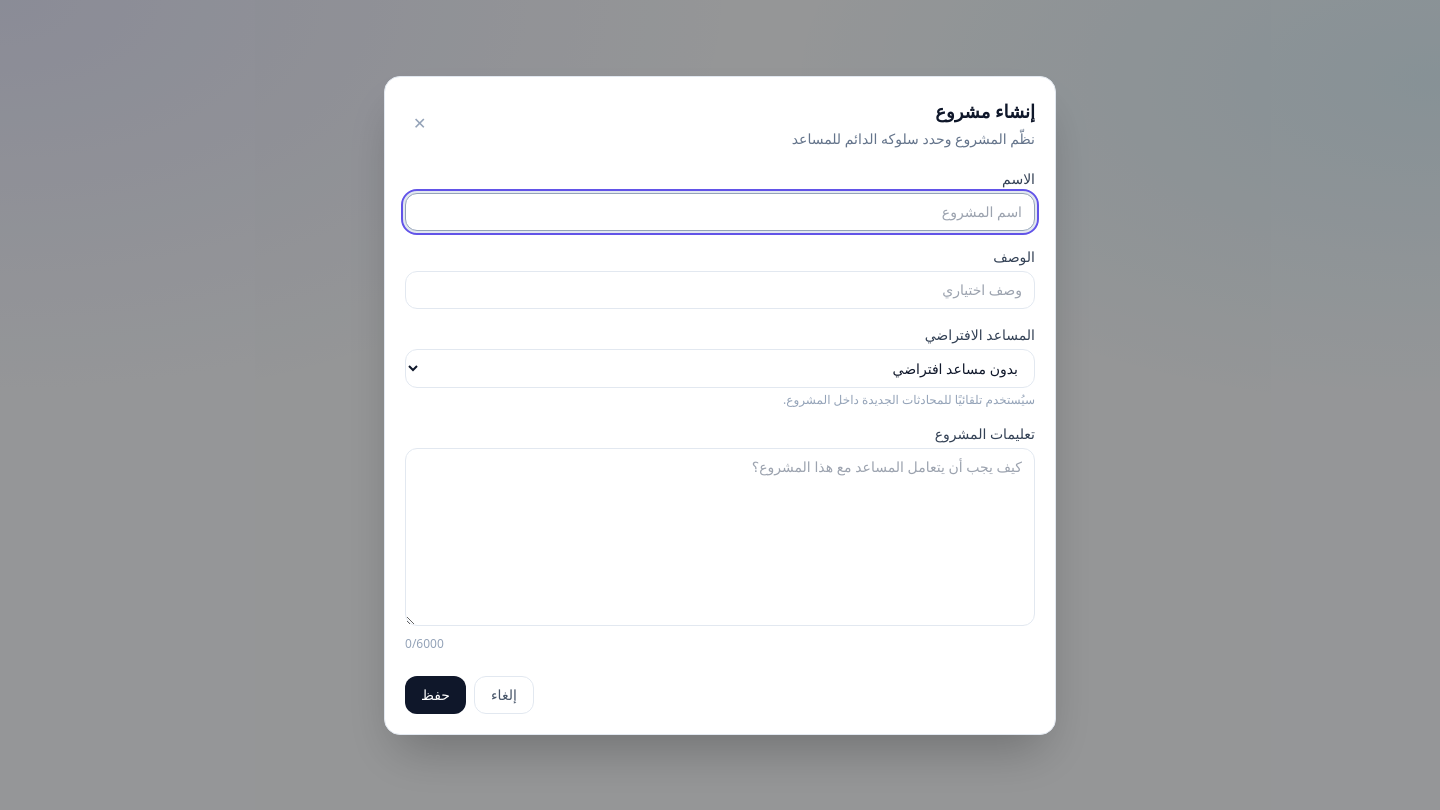
it: ProjectEditor › validates the project name
Click the button "حفظ": point(436, 694) [405,676,466,714]
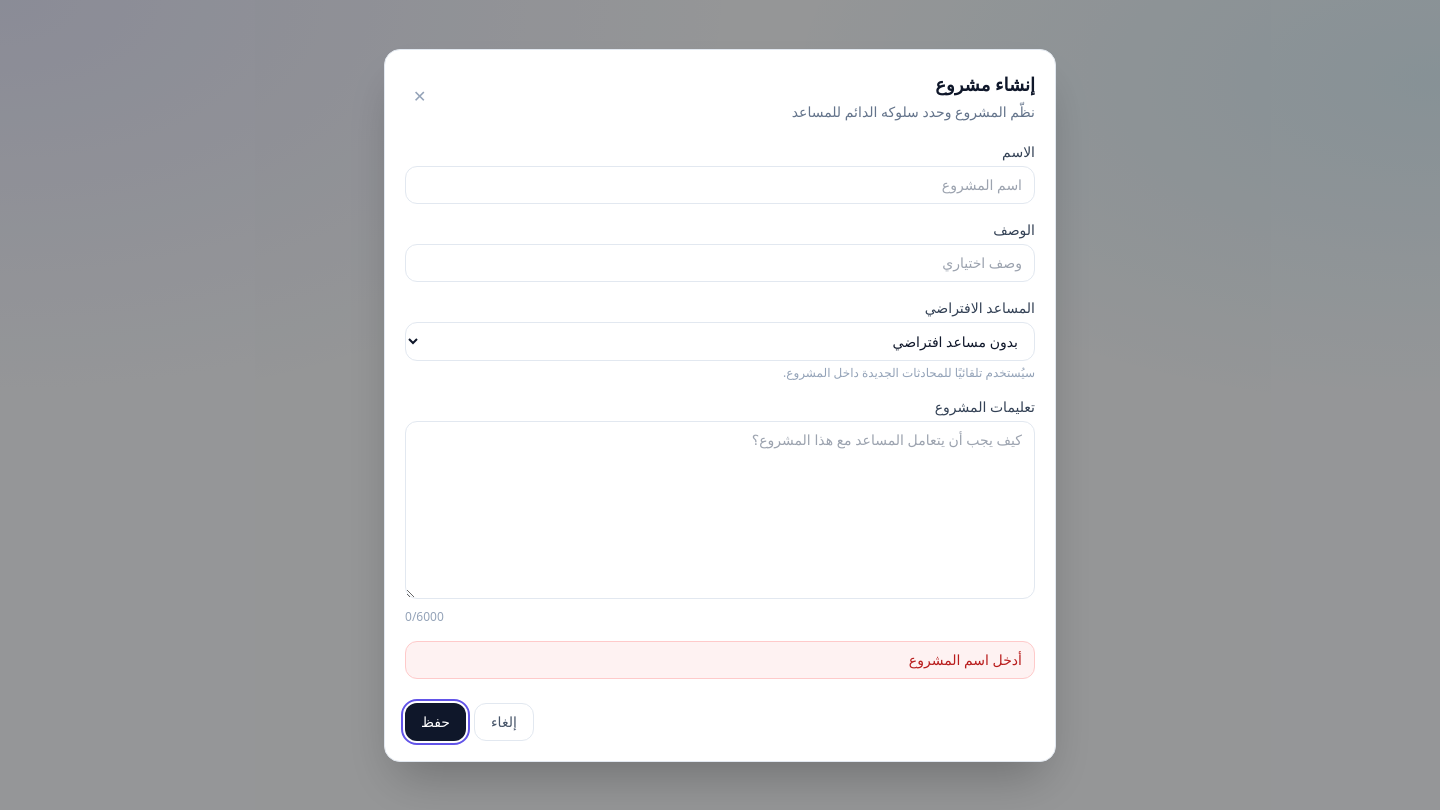
Now the message reads "أدخل اسم المشروع", box [909,650,1022,668]
